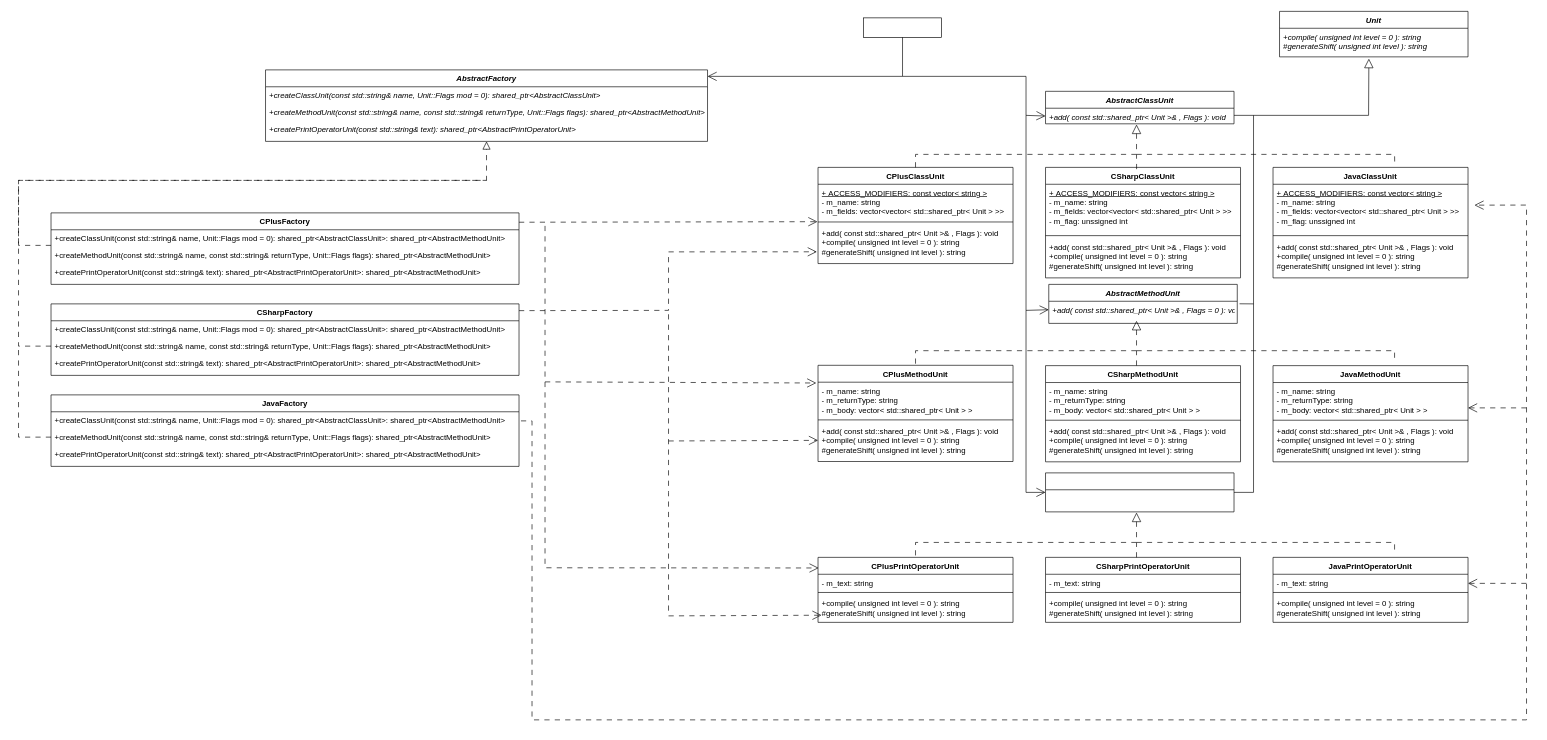
Some shapes in this 1547 by 740 pixel diagram are drawn without their labels. The shapes that lost their labels are listed below. From the top down, each one's centre as x and y in pixels, then its label:
At point (902, 27): "Client".
At point (1139, 492): "AbstractPrintOperatorUnit".
